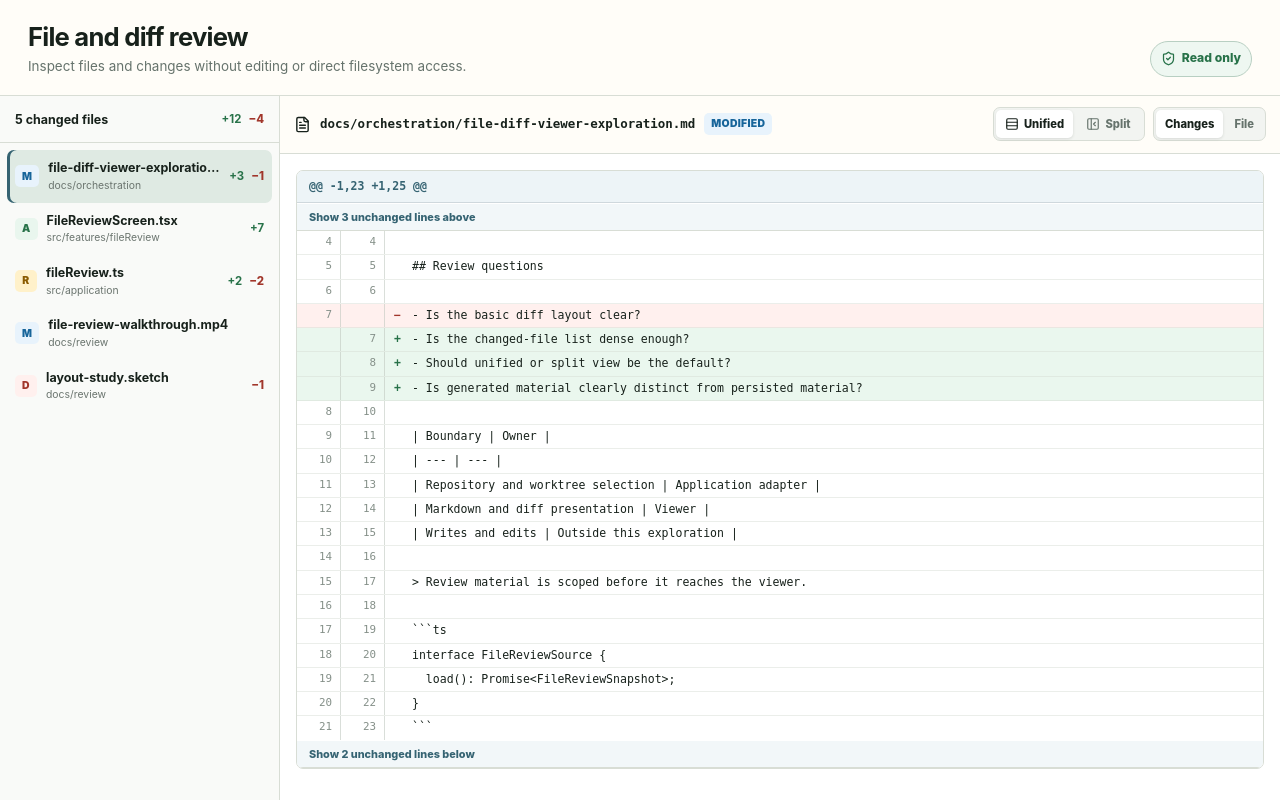
FileReviewScreen › reuses safe Markdown rendering and names binary and unsupported states
Expected: the text "5 changed files" is shown, [15, 111, 108, 129]
What coordinates should you click on to do the following:
click the button "File"
I would click on:
 (1244, 124)
Its box is [1225, 110, 1263, 138].
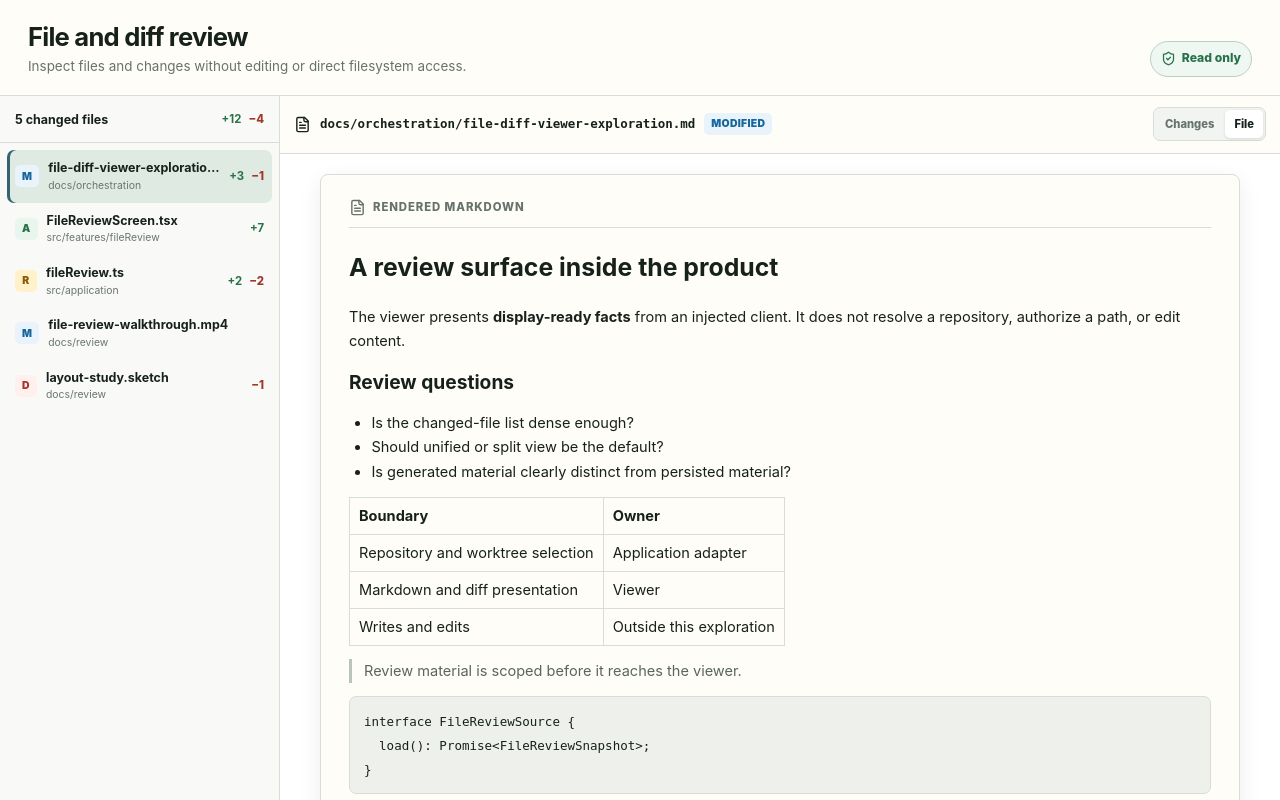
Expected: the heading "A review surface inside the product" is shown, [349, 252, 778, 282]
Expected: the table is shown, [349, 497, 1211, 646]
What coordinates should you click on to do the following:
click the button with aria-label "Review docs/review/file-review-walkthrough.mp4"
I would click on:
 (140, 333)
Its box is [7, 307, 272, 360].
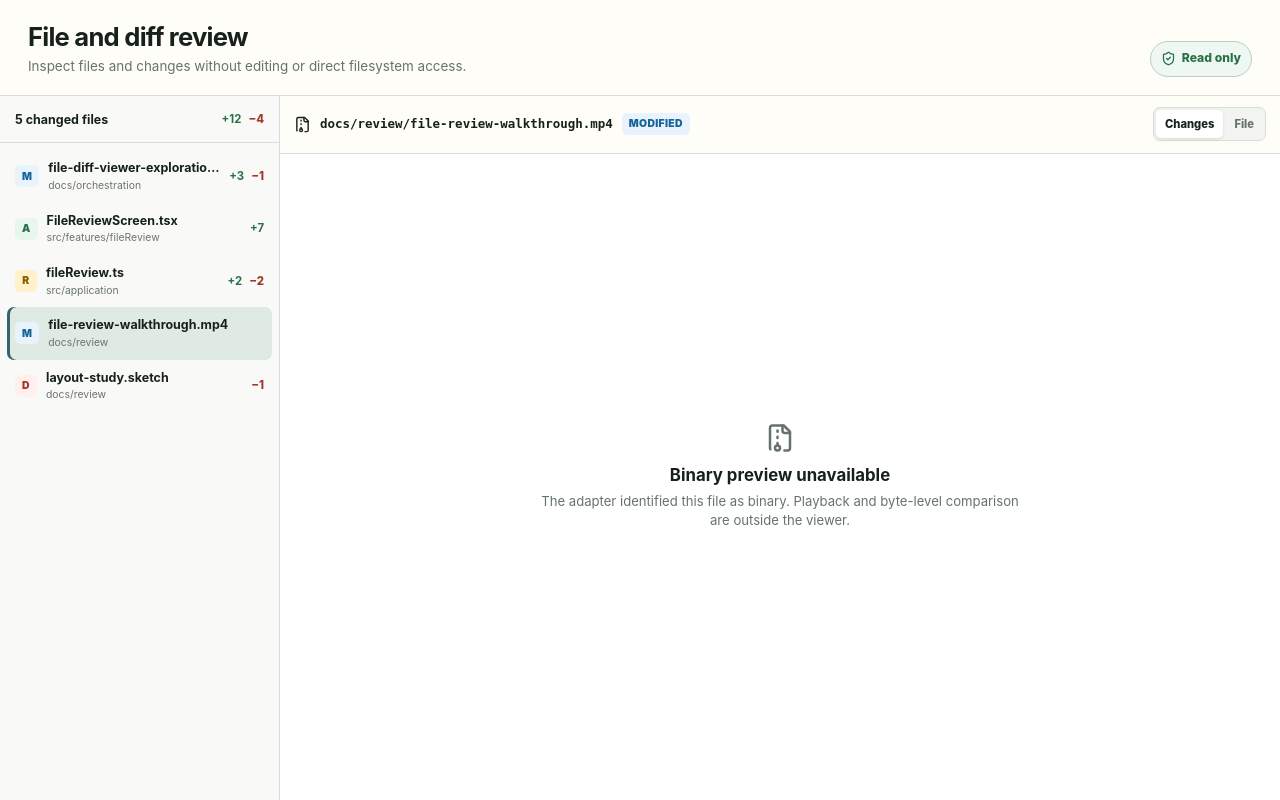
Expected: the heading "Binary preview unavailable" is shown, [670, 462, 890, 488]
What coordinates should you click on to do the following:
click the button with aria-label "Review docs/review/layout-study.sketch"
I would click on:
 (140, 386)
Its box is [7, 360, 272, 412].
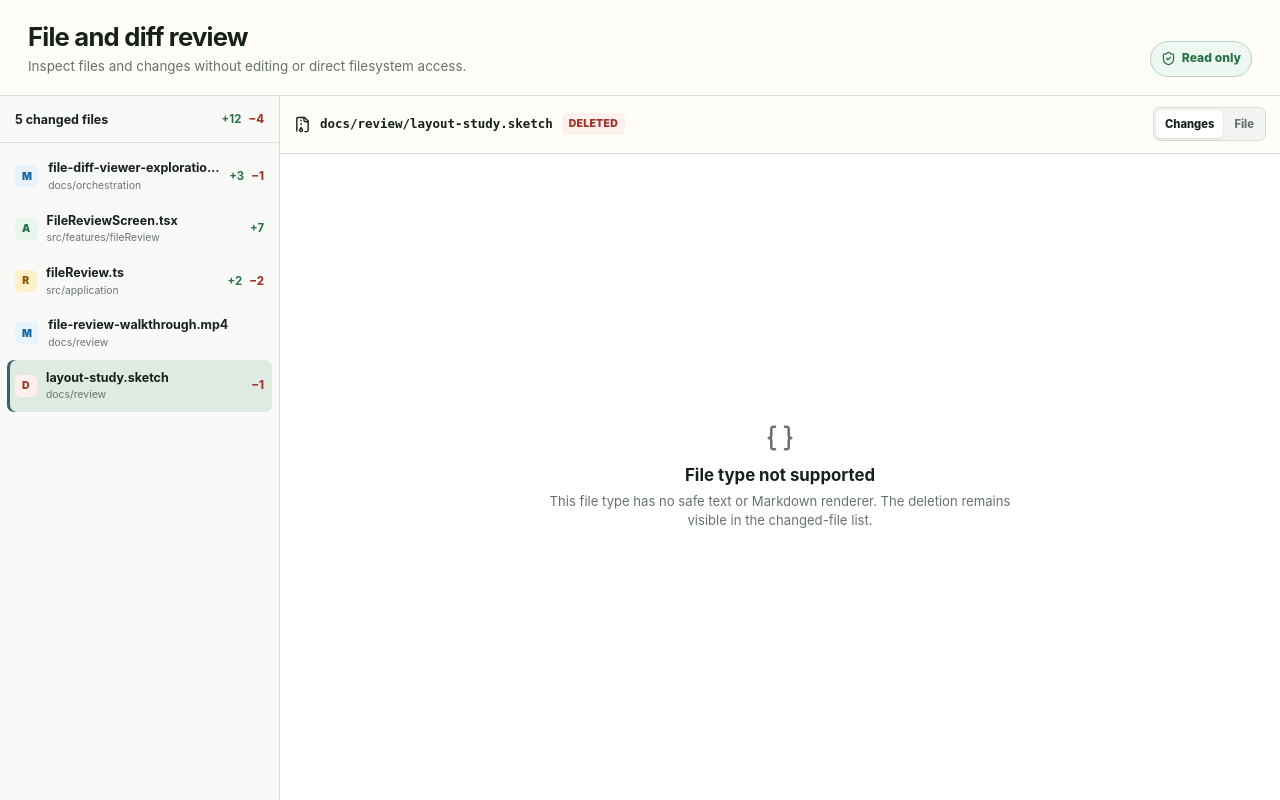
Expected: the heading "File type not supported" is shown, [685, 462, 875, 488]
